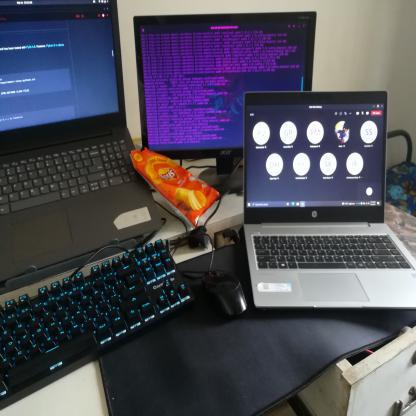hot_and_sweet: (131, 143, 224, 228)
